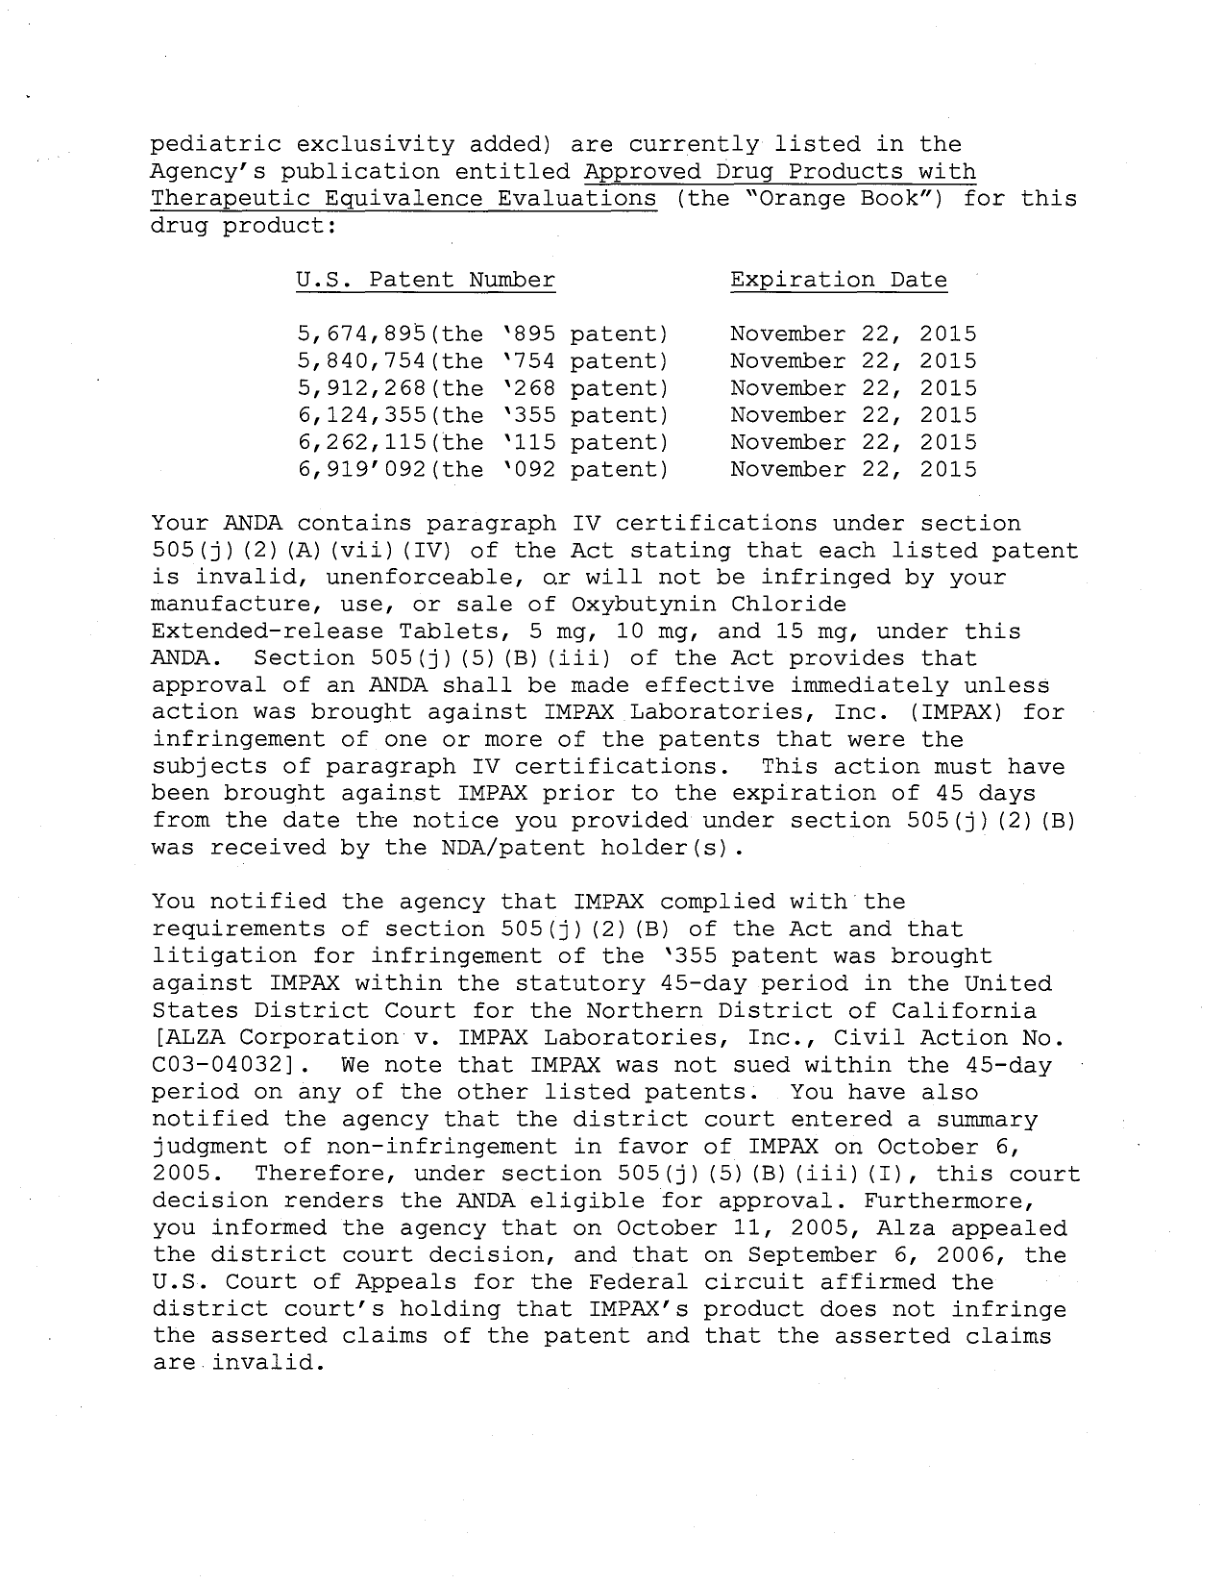nolines: (291, 267, 978, 483)
